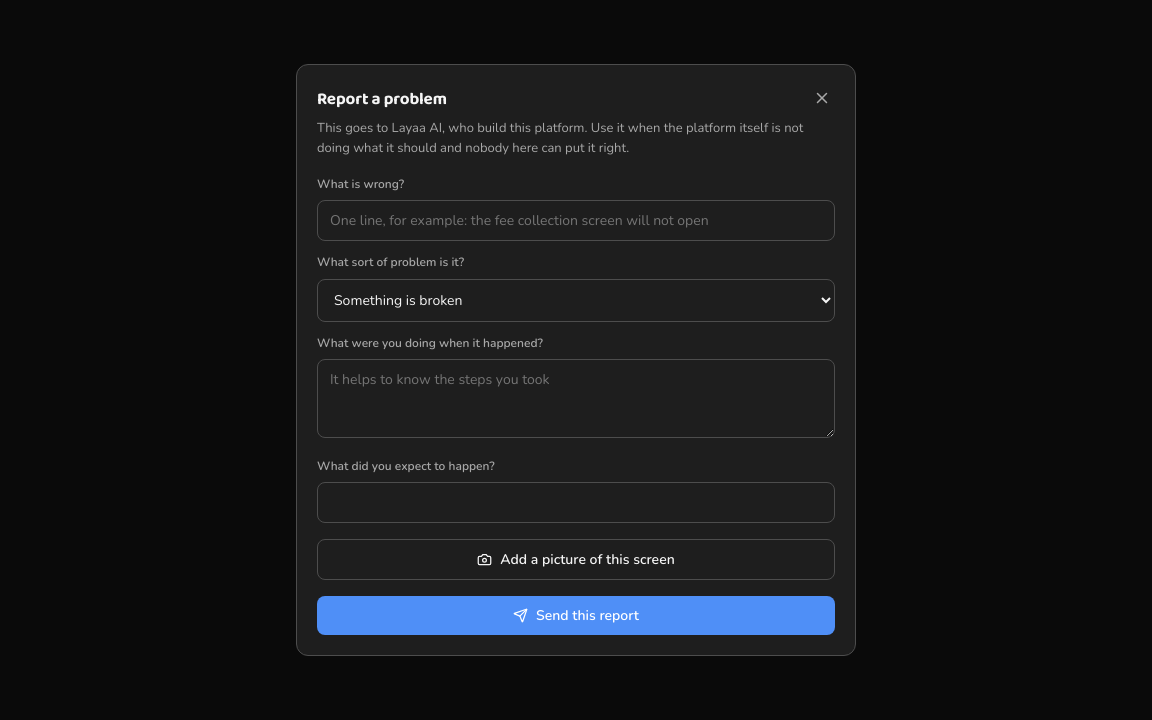
it: reporting a problem › will not send without one line saying what is wrong
This screenshot has width=1152, height=720.
Click the button "Send this report" at (576, 616), box [317, 596, 835, 635]
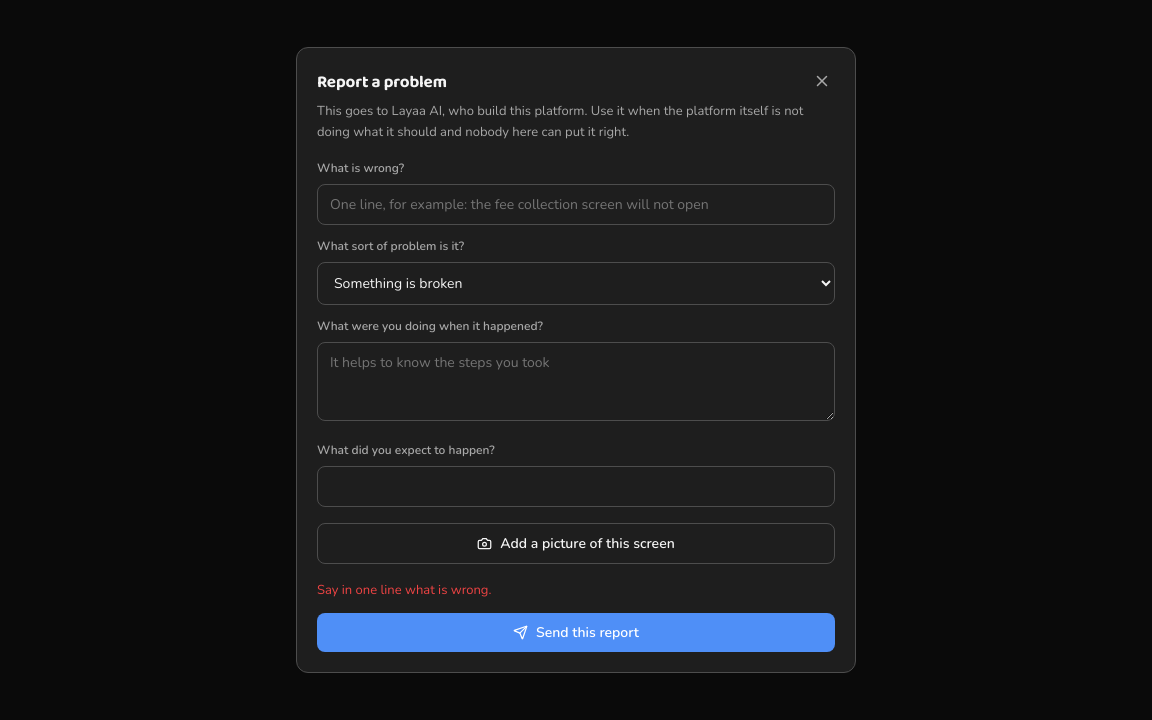
Now the message reads "Say in one line what is wrong.", box [317, 581, 492, 599]
